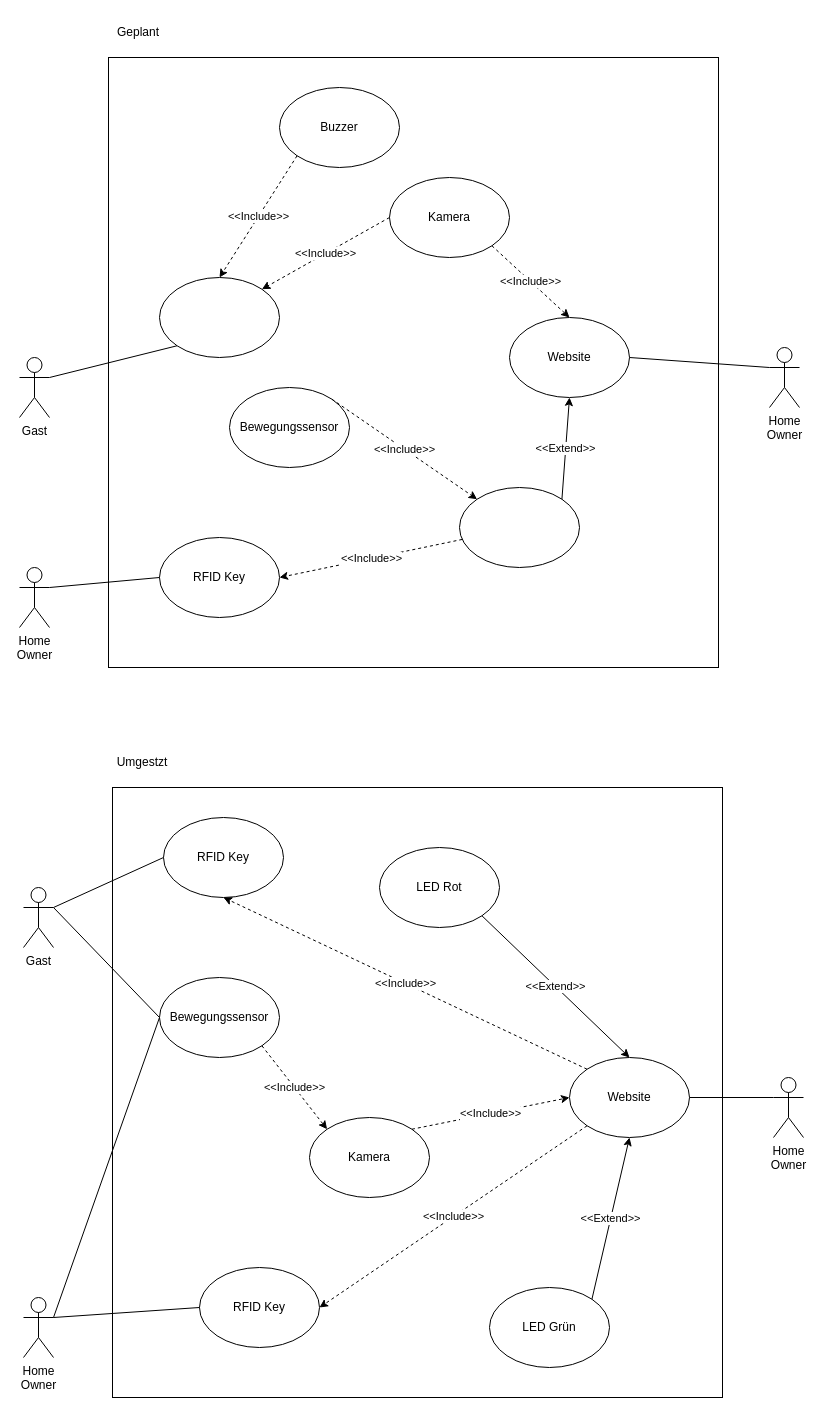
Image size: 823x1415. Some labels were removed from this diagram. The shapes that lost their labels are listed below. From the top down, each one's box as (x1, y1, x2, y2) in pixels, then its label:
(158, 276, 280, 358): Klingel
(458, 486, 580, 568): Türöffner
